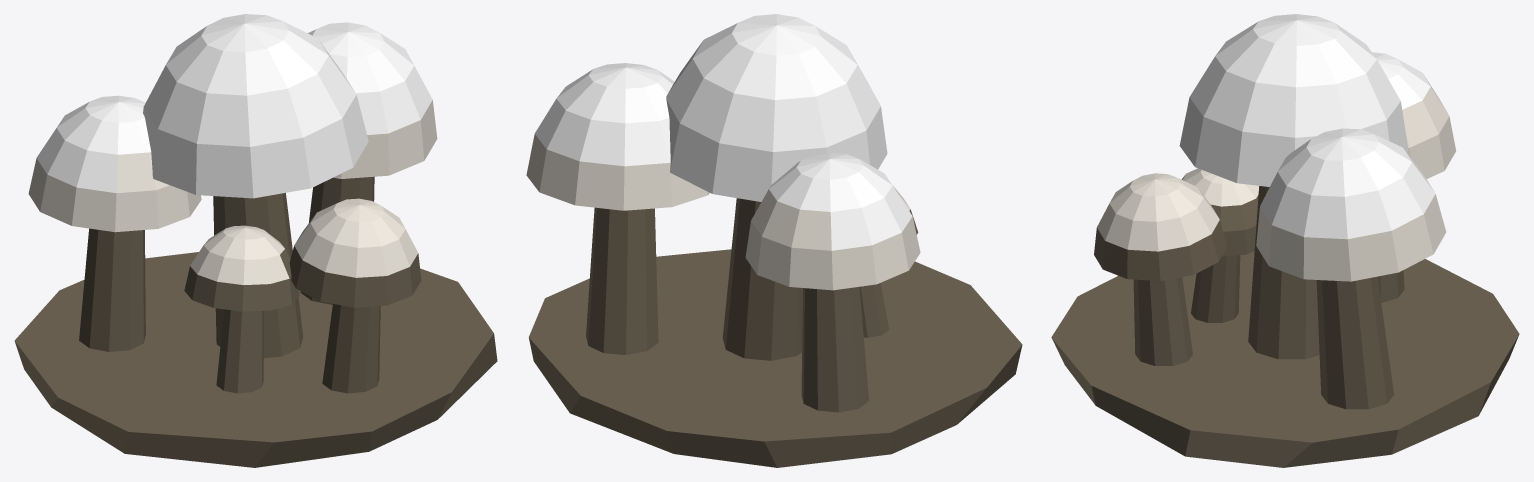
The model's file is mushroom_cluster.glb.
The picture shows the model from 3 angles, left to right: view 1: azimuth 30°, elevation 25°; view 2: azimuth 150°, elevation 25°; view 3: azimuth 270°, elevation 25°; orthographic projection.
Parts seen in each view (by area): view 1: mushroom_cluster; view 2: mushroom_cluster; view 3: mushroom_cluster.
Boxes of the visible parts, bbox=[...] form: mushroom_cluster: bbox=[14, 14, 497, 467]; mushroom_cluster: bbox=[526, 14, 1022, 467]; mushroom_cluster: bbox=[1051, 14, 1519, 467].
Size of the model in its own units: 0.2511 by 0.1973 by 0.2454.
